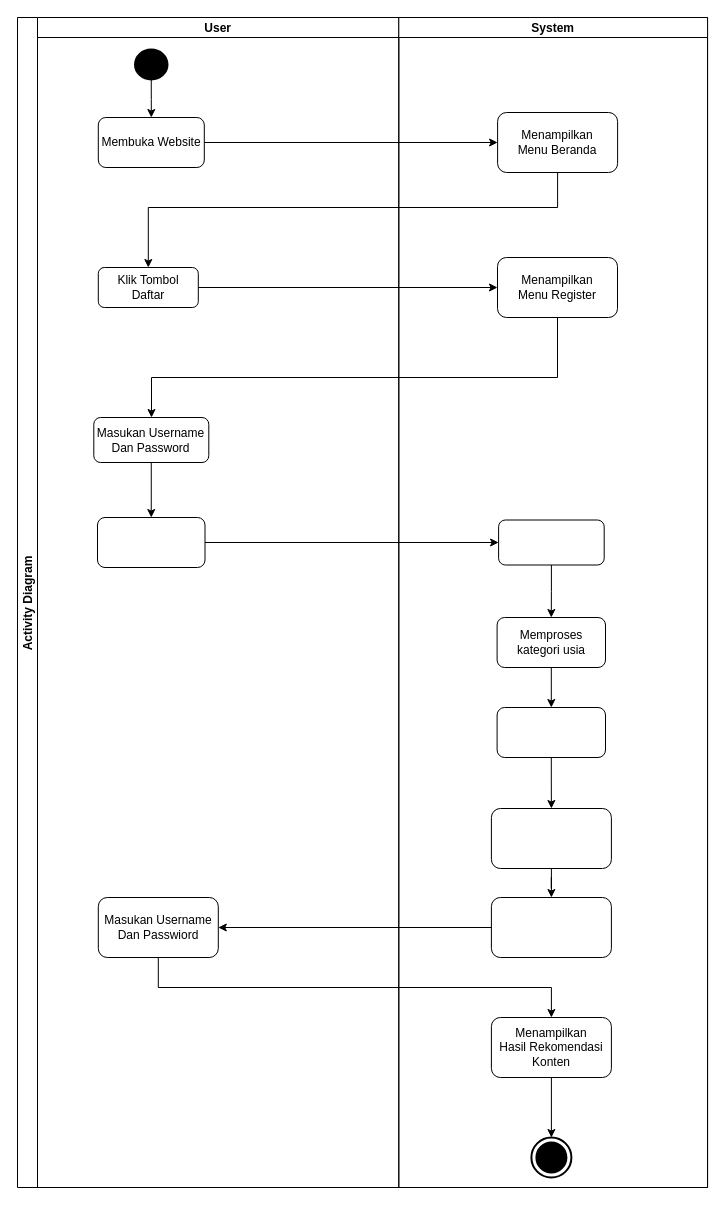
Image size: 726x1205. Some labels were removed from this diagram. Each missing label, with the centre of its shape:
"Data Berhasil Disimpan" goes at [550,838].
"Kategori Usia Ditentukan" goes at [551,732].
"Masukan Tanggal lahir" goes at [150,542].
"Menampilkan Menu Login Akun" goes at [550,927].
"Simpan Data" goes at [551,542].
